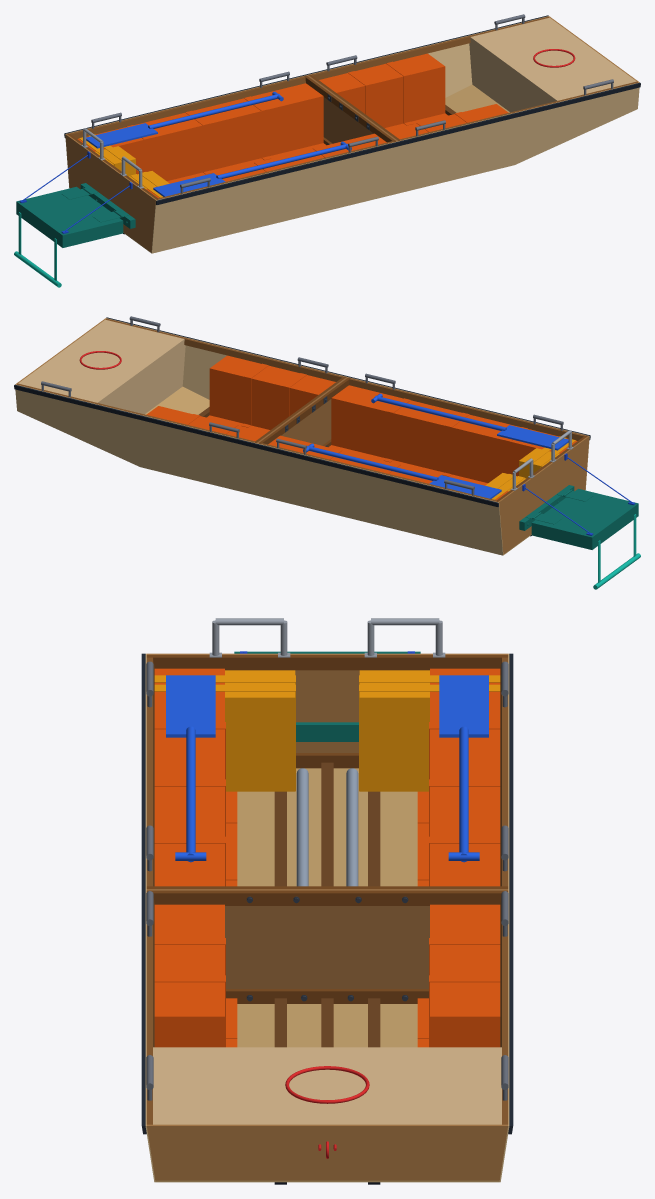
3 renders of one model, top to bottom at view 1: azimuth 30°, elevation 25°; view 2: azimuth 150°, elevation 25°; view 3: azimuth 270°, elevation 25°, orthographic. The views are drawn at different scales.
Parts seen in each view (by area): view 1: Side panels, Bench modules: rails, covers, straps, Bow box wall and deck, Stern step, Inwales, Stern transom, Rub strakes, Paddles, Joint bulkheads, Carry handles, Ring frames, Stern quarter foam modules (+3 smaller); view 2: Side panels, Bench modules: rails, covers, straps, Bow box wall and deck, Stern step, Inwales, Stern transom, Rub strakes, Paddles, Joint bulkheads, Carry handles, Ring frames, Stern quarter foam modules (+3 smaller); view 3: Bench modules: rails, covers, straps, Bow box wall and deck, Bow transom, Bottom panels, Stern quarter foam modules, Joint bulkheads, Ring frames, Paddles, Stringers and knuckle floor, Inwales, Rub strakes, Stern transom (+6 smaller).
Part boxes in pixels (x1=…): Side panels: x1=65, y1=16, x2=639, y2=253; Bench modules: rails, covers, straps: x1=77, y1=53, x2=508, y2=198; Bow box wall and deck: x1=469, y1=17, x2=636, y2=112; Stern step: x1=16, y1=183, x2=135, y2=247; Inwales: x1=70, y1=16, x2=637, y2=199; Stern transom: x1=65, y1=134, x2=156, y2=252; Rub strakes: x1=64, y1=15, x2=640, y2=204; Paddles: x1=86, y1=91, x2=351, y2=196; Joint bulkheads: x1=307, y1=75, x2=398, y2=143; Carry handles: x1=91, y1=14, x2=613, y2=193; Ring frames: x1=67, y1=74, x2=400, y2=199; Stern quarter foam modules: x1=79, y1=134, x2=169, y2=197; Side panels: x1=15, y1=318, x2=589, y2=555; Bench modules: rails, covers, straps: x1=146, y1=355, x2=577, y2=500; Bow box wall and deck: x1=18, y1=319, x2=185, y2=414; Stern step: x1=519, y1=485, x2=638, y2=549; Inwales: x1=17, y1=318, x2=584, y2=501; Stern transom: x1=498, y1=436, x2=589, y2=554; Rub strakes: x1=14, y1=317, x2=590, y2=506; Paddles: x1=303, y1=393, x2=568, y2=498; Joint bulkheads: x1=256, y1=377, x2=347, y2=445; Carry handles: x1=41, y1=316, x2=563, y2=495; Ring frames: x1=254, y1=376, x2=587, y2=501; Stern quarter foam modules: x1=485, y1=436, x2=575, y2=499; Bench modules: rails, covers, straps: x1=154, y1=668, x2=500, y2=1047; Bow box wall and deck: x1=153, y1=1047, x2=501, y2=1124; Bow transom: x1=146, y1=1124, x2=508, y2=1180; Bottom panels: x1=155, y1=768, x2=499, y2=1182; Stern quarter foam modules: x1=154, y1=670, x2=500, y2=791; Joint bulkheads: x1=146, y1=889, x2=508, y2=988; Ring frames: x1=146, y1=655, x2=508, y2=1003; Paddles: x1=166, y1=675, x2=488, y2=862; Stringers and knuckle floor: x1=274, y1=762, x2=380, y2=1047; Inwales: x1=146, y1=657, x2=508, y2=1124; Rub strakes: x1=141, y1=653, x2=513, y2=1134; Stern transom: x1=146, y1=653, x2=508, y2=752.
Bounding box in the file's own units: 4.22 × 0.747 × 1.2.
